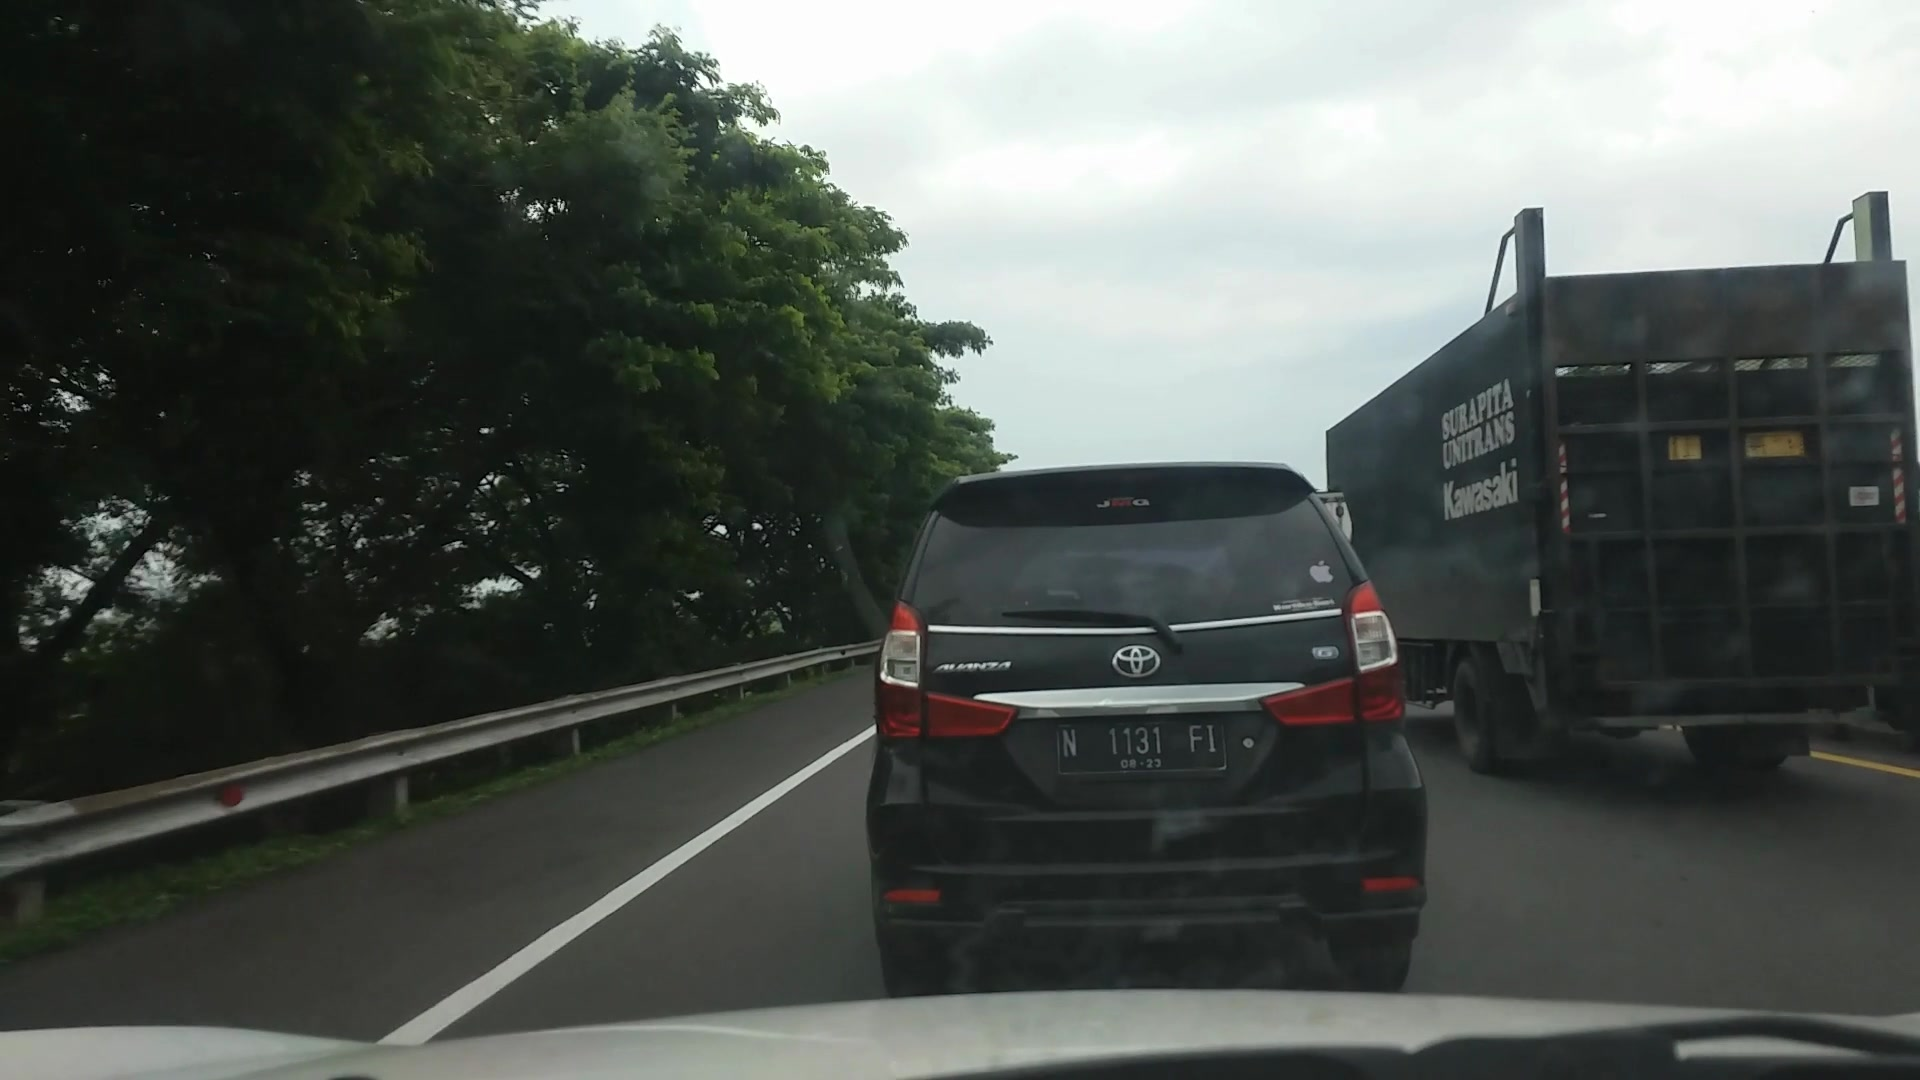plate_positive: (1055, 721, 1225, 771)
